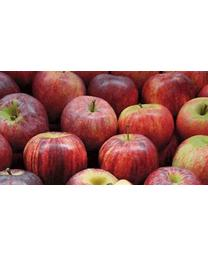apple: (0, 72, 206, 184)
